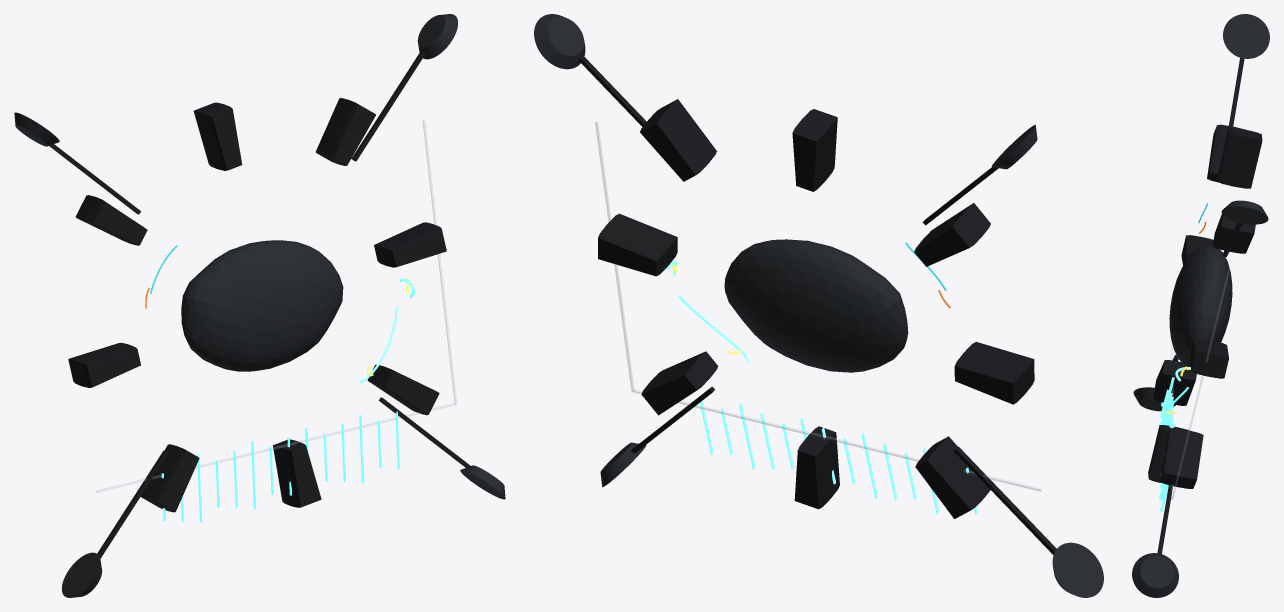
Rendered from aiden-observatory.glb.
3 views of the same model, side by side, from view 1: azimuth 30°, elevation 25°; view 2: azimuth 150°, elevation 25°; view 3: azimuth 270°, elevation 25° (orthographic). The views are drawn at different scales.
Parts seen in each view (by area): view 1: lensing_elliptical_mass, detector_vane_02_body, detector_vane_03_body, detector_vane_07_body, detector_vane_06_body, detector_vane_01_body, detector_vane_05_body, detector_vane_04_body, detector_vane_08_body, interferometer_arm_03_collector, interferometer_arm_01_collector, interferometer_arm_01_baseline (+5 smaller); view 2: lensing_elliptical_mass, detector_vane_02_body, detector_vane_05_body, detector_vane_01_body, detector_vane_06_body, detector_vane_03_body, detector_vane_07_body, detector_vane_04_body, detector_vane_08_body, interferometer_arm_03_collector, interferometer_arm_01_collector, detector_plane_horizontal (+4 smaller); view 3: lensing_elliptical_mass, detector_vane_03_body, detector_vane_08_body, interferometer_arm_02_collector, interferometer_arm_04_collector, detector_vane_01_body, detector_vane_06_body, detector_vane_02_body, interferometer_arm_01_collector, detector_vane_07_body, detector_vane_04_body, interferometer_arm_03_collector (+5 smaller).
Part boxes in pixels (bbox=[...]): lensing_elliptical_mass: bbox=[181, 240, 343, 371]; detector_vane_02_body: bbox=[315, 98, 375, 165]; detector_vane_03_body: bbox=[193, 102, 242, 170]; detector_vane_07_body: bbox=[273, 439, 321, 507]; detector_vane_06_body: bbox=[140, 444, 199, 512]; detector_vane_01_body: bbox=[374, 222, 446, 267]; detector_vane_05_body: bbox=[68, 342, 140, 387]; detector_vane_04_body: bbox=[75, 195, 147, 245]; detector_vane_08_body: bbox=[367, 364, 439, 415]; interferometer_arm_03_collector: bbox=[61, 552, 102, 597]; interferometer_arm_01_collector: bbox=[417, 14, 458, 59]; interferometer_arm_01_baseline: bbox=[351, 50, 424, 161]; lensing_elliptical_mass: bbox=[724, 239, 908, 372]; detector_vane_02_body: bbox=[640, 99, 716, 181]; detector_vane_05_body: bbox=[954, 342, 1034, 404]; detector_vane_01_body: bbox=[598, 213, 677, 276]; detector_vane_06_body: bbox=[915, 436, 990, 518]; detector_vane_03_body: bbox=[792, 109, 837, 191]; detector_vane_07_body: bbox=[794, 426, 839, 509]; detector_vane_04_body: bbox=[914, 203, 990, 266]; detector_vane_08_body: bbox=[641, 351, 718, 415]; interferometer_arm_03_collector: bbox=[1052, 542, 1103, 597]; interferometer_arm_01_collector: bbox=[534, 14, 585, 69]; detector_plane_horizontal: bbox=[632, 389, 1041, 491]; lensing_elliptical_mass: bbox=[1169, 245, 1232, 366]; detector_vane_03_body: bbox=[1217, 127, 1262, 188]; detector_vane_08_body: bbox=[1160, 428, 1203, 488]; interferometer_arm_02_collector: bbox=[1223, 14, 1269, 58]; interferometer_arm_04_collector: bbox=[1132, 553, 1178, 597]; detector_vane_01_body: bbox=[1190, 338, 1228, 378]; detector_vane_06_body: bbox=[1153, 360, 1196, 405]; detector_vane_02_body: bbox=[1212, 214, 1255, 253]; interferometer_arm_01_collector: bbox=[1221, 200, 1268, 224]; detector_vane_07_body: bbox=[1148, 425, 1189, 482]; detector_vane_04_body: bbox=[1207, 124, 1243, 182]; interferometer_arm_03_collector: bbox=[1133, 387, 1175, 411].
Bounding box in the file's own units: 5.87 × 5.75 × 1.8.
